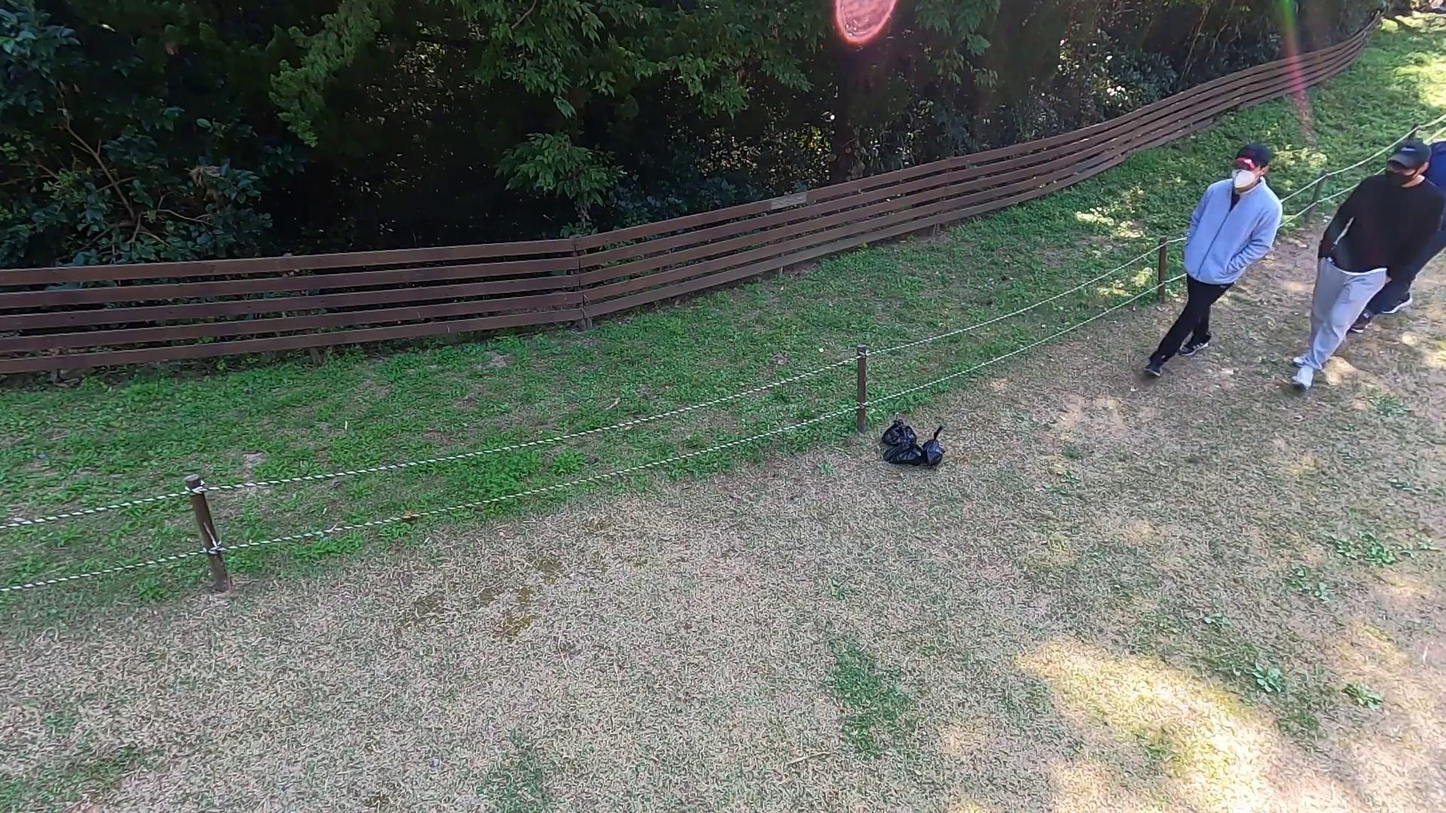person: (1135, 139, 1284, 390), (1295, 143, 1440, 391)
trash: (877, 414, 923, 453), (919, 422, 951, 474), (881, 446, 925, 473)
